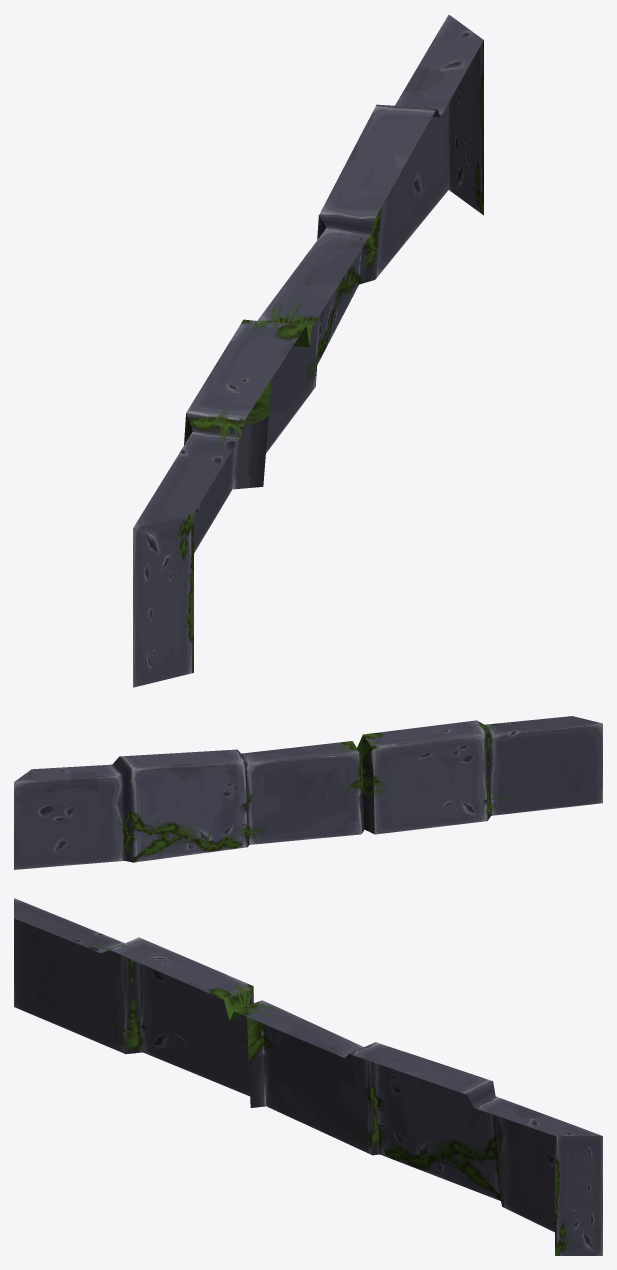
Rendered from MOD_WallTrim_01_M_angle_2_2.fbx.
3 views of the same model, one above another, from view 1: azimuth 30°, elevation 25°; view 2: azimuth 150°, elevation 25°; view 3: azimuth 270°, elevation 25° (orthographic). The views are drawn at different scales.
Visible parts, largest first — view 1: MOD_WallTrim_01_M_angle_2_2; view 2: MOD_WallTrim_01_M_angle_2_2; view 3: MOD_WallTrim_01_M_angle_2_2.
Part boxes in pixels (<box>): MOD_WallTrim_01_M_angle_2_2: <box>133,14,483,687</box>; MOD_WallTrim_01_M_angle_2_2: <box>14,716,602,869</box>; MOD_WallTrim_01_M_angle_2_2: <box>14,898,602,1255</box>.
Bounding box in the file's own units: 245 × 56.84 × 245.
